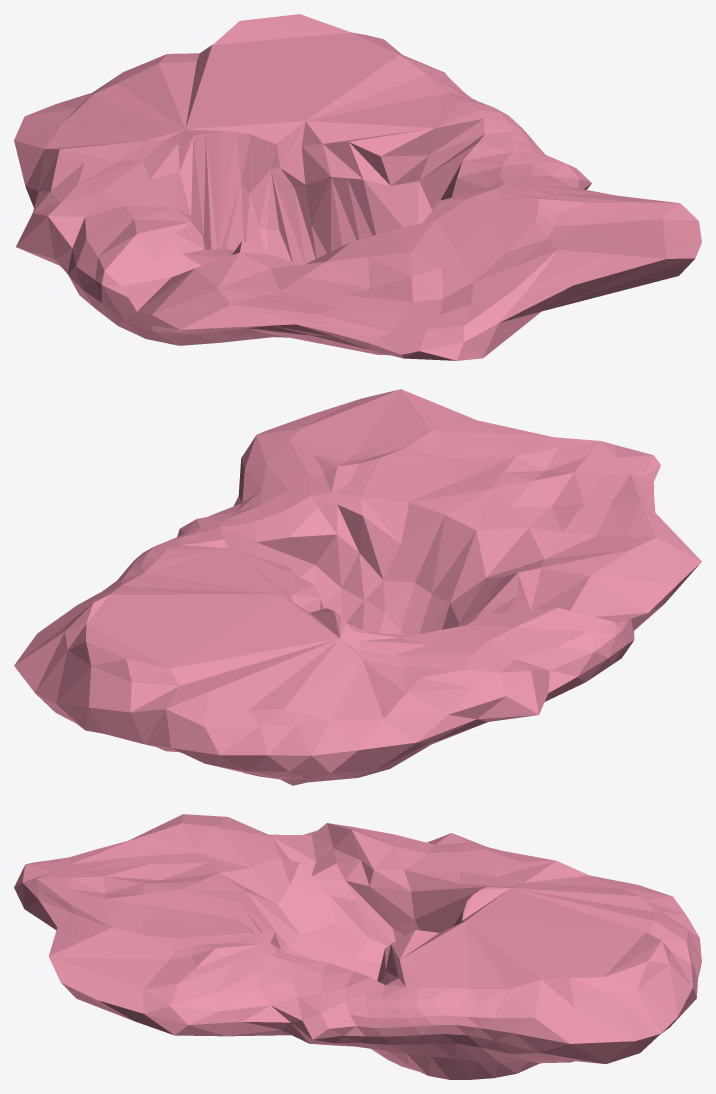
File: huiTerrain2_01.fbx
3 views of the same model, one above another, from view 1: azimuth 30°, elevation 25°; view 2: azimuth 150°, elevation 25°; view 3: azimuth 270°, elevation 25° (orthographic). The views are drawn at different scales.
Parts seen in each view (by area): view 1: land; view 2: land; view 3: land.
Boxes of the visible parts, <box> form: land: <box>14,14,701,360</box>; land: <box>14,389,701,785</box>; land: <box>14,814,701,1079</box>.
Size of the model in its own units: 601 by 215 by 845.
